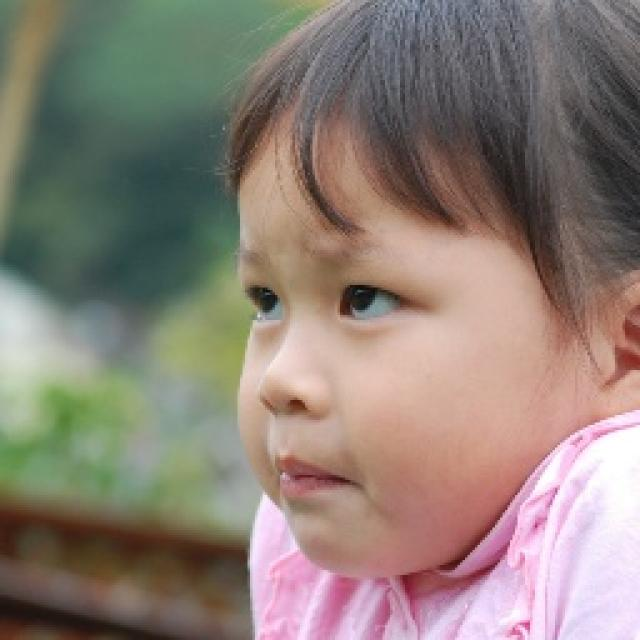earlobe: (588, 381, 629, 421)
eye: (339, 277, 414, 325), (244, 278, 284, 331)
nose: (266, 402, 310, 436)
wholeear: (588, 267, 640, 422)
